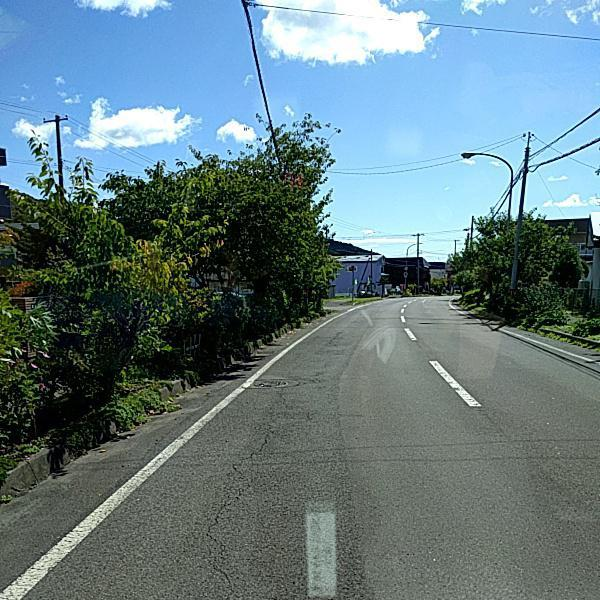D00: (195, 427, 285, 591)
D44: (425, 356, 483, 409)
D50: (246, 375, 288, 397)
